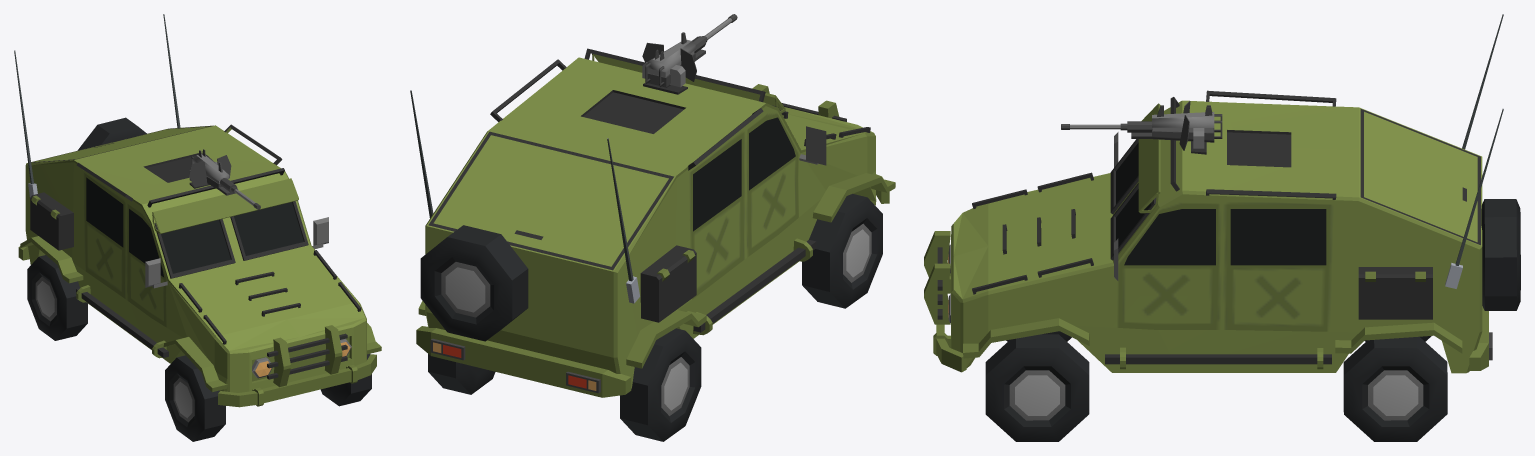
Rendered from jeep-03.fbx.
The picture shows the model from 3 angles, left to right: view 1: azimuth 30°, elevation 25°; view 2: azimuth 150°, elevation 25°; view 3: azimuth 270°, elevation 25°; orthographic projection. The views are drawn at different scales.
Visible parts, largest first — view 1: Jeep_3, Gun; view 2: Jeep_3, Gun; view 3: Jeep_3, Gun.
Part boxes in pixels (left/top/right/bottom): Jeep_3: left=14, top=14, right=381, bottom=441; Gun: left=189, top=149, right=260, bottom=209; Jeep_3: left=410, top=48, right=895, bottom=441; Gun: left=642, top=14, right=737, bottom=87; Jeep_3: left=924, top=14, right=1520, bottom=441; Gun: left=1061, top=101, right=1222, bottom=150.
Size of the model in its own units: 181 by 238 by 393.
